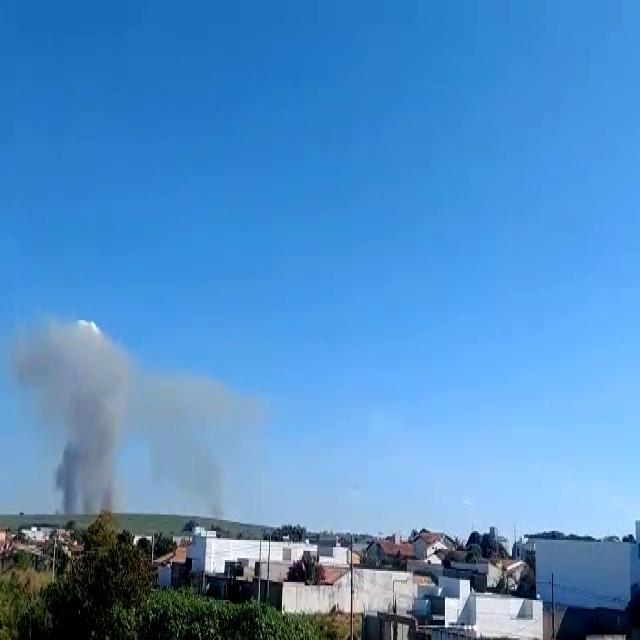Smoke: (33, 308, 146, 515), (130, 356, 254, 521)
